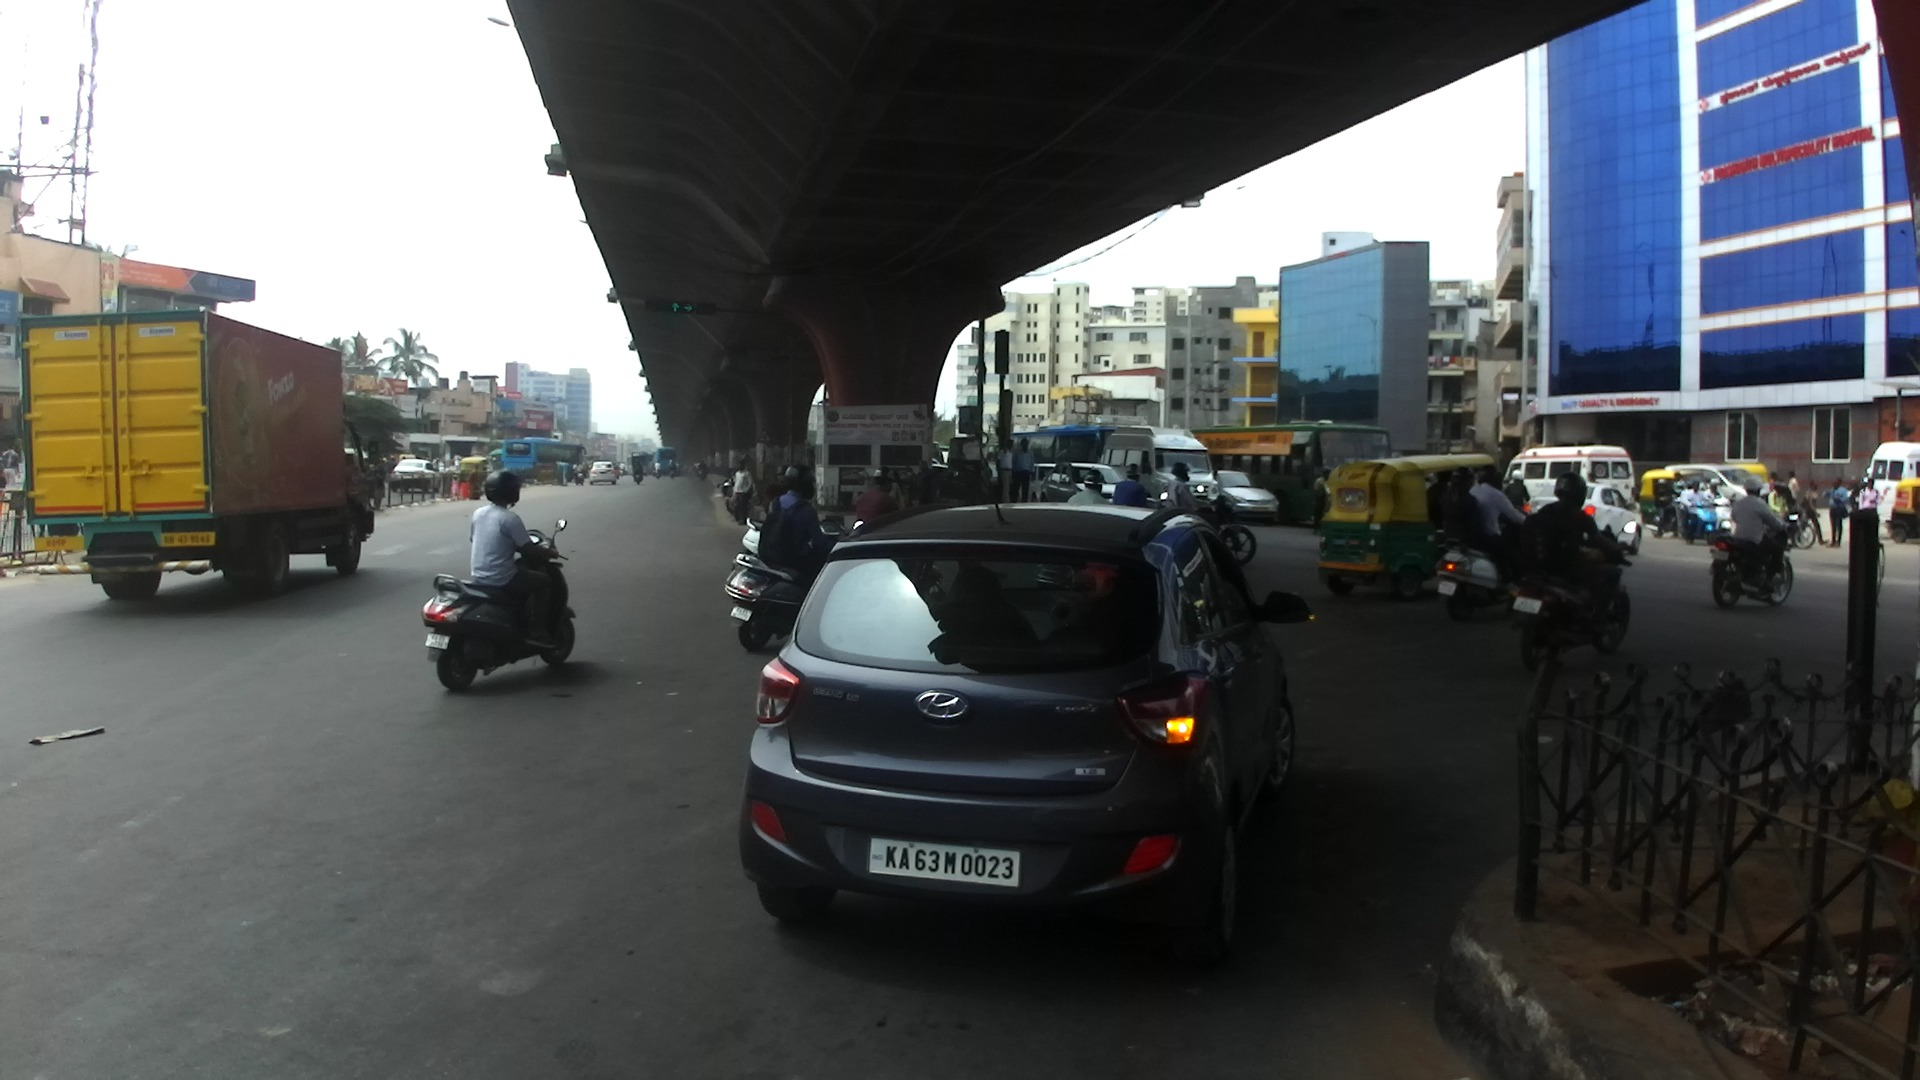autorickshaw: (1318, 453, 1500, 600), (1640, 469, 1708, 528), (1890, 480, 1920, 547), (1736, 462, 1769, 489), (461, 456, 490, 483), (397, 453, 417, 461)
bus: (1188, 418, 1394, 521), (1100, 423, 1220, 517), (1502, 444, 1638, 511), (1009, 424, 1111, 472), (1867, 442, 1920, 522), (503, 438, 587, 476), (652, 446, 677, 476), (632, 450, 650, 474)
car: (719, 433, 1315, 959), (1528, 482, 1643, 553), (1664, 464, 1768, 504), (1213, 468, 1279, 522), (1039, 463, 1121, 502), (390, 458, 442, 494), (1017, 463, 1058, 504), (589, 460, 618, 488), (930, 455, 948, 472)
motorcycle: (420, 513, 577, 703), (1510, 517, 1637, 674), (724, 516, 862, 653), (1433, 506, 1525, 619), (1707, 513, 1799, 605), (1192, 486, 1256, 564), (1775, 511, 1814, 551), (1678, 506, 1718, 543), (736, 517, 770, 555), (1648, 504, 1683, 540), (1706, 493, 1736, 532), (715, 474, 741, 514), (1145, 489, 1172, 509), (1847, 489, 1859, 509), (573, 471, 586, 484), (632, 472, 643, 484), (697, 469, 708, 480), (654, 469, 665, 477), (619, 467, 626, 477), (668, 468, 677, 476), (582, 469, 590, 475), (648, 468, 654, 473)
person: (1012, 437, 1037, 503), (1802, 483, 1829, 545), (1826, 476, 1848, 545), (733, 459, 754, 524), (995, 436, 1014, 503), (1857, 473, 1879, 520), (3, 442, 20, 501), (915, 460, 936, 504), (373, 463, 386, 513), (467, 467, 482, 500), (1786, 468, 1800, 502), (1673, 471, 1684, 496), (554, 458, 563, 485), (562, 459, 571, 486), (452, 475, 460, 501), (1769, 470, 1778, 491), (431, 454, 441, 471), (461, 480, 470, 498)
rider: (1519, 471, 1625, 639), (471, 466, 559, 656), (758, 463, 827, 595), (1471, 462, 1527, 593), (1729, 477, 1790, 596), (1443, 467, 1497, 573), (856, 467, 900, 527), (1162, 461, 1210, 514), (765, 464, 794, 530), (1114, 462, 1153, 509), (1067, 471, 1110, 508), (1310, 467, 1333, 531), (876, 468, 904, 512), (1683, 480, 1707, 531), (1504, 469, 1531, 511), (1656, 479, 1673, 538), (1768, 482, 1790, 526), (1704, 479, 1725, 505), (1846, 476, 1859, 500), (571, 462, 584, 481), (452, 451, 462, 469), (377, 455, 388, 470), (634, 462, 643, 477), (389, 455, 397, 471), (668, 458, 678, 471), (1703, 478, 1712, 491), (580, 458, 588, 472), (653, 462, 662, 474), (699, 462, 707, 472), (648, 459, 654, 471), (619, 460, 625, 469), (1685, 482, 1692, 491), (614, 460, 620, 470), (401, 455, 407, 460)
traffic light: (648, 294, 722, 315)
truck: (21, 311, 380, 601)
vehicle fallback: (986, 451, 1003, 498), (443, 462, 461, 482), (486, 448, 504, 471), (931, 440, 946, 465), (940, 444, 952, 464), (626, 455, 633, 475), (692, 461, 702, 473)
